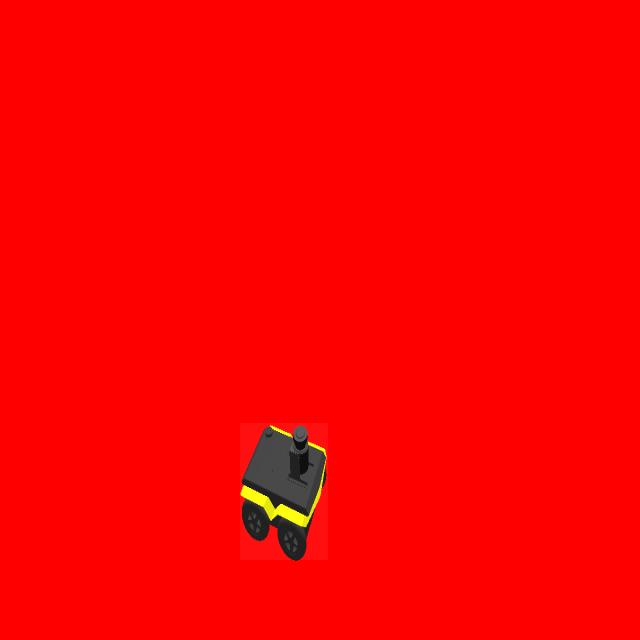jackal: (240, 423, 328, 560)
